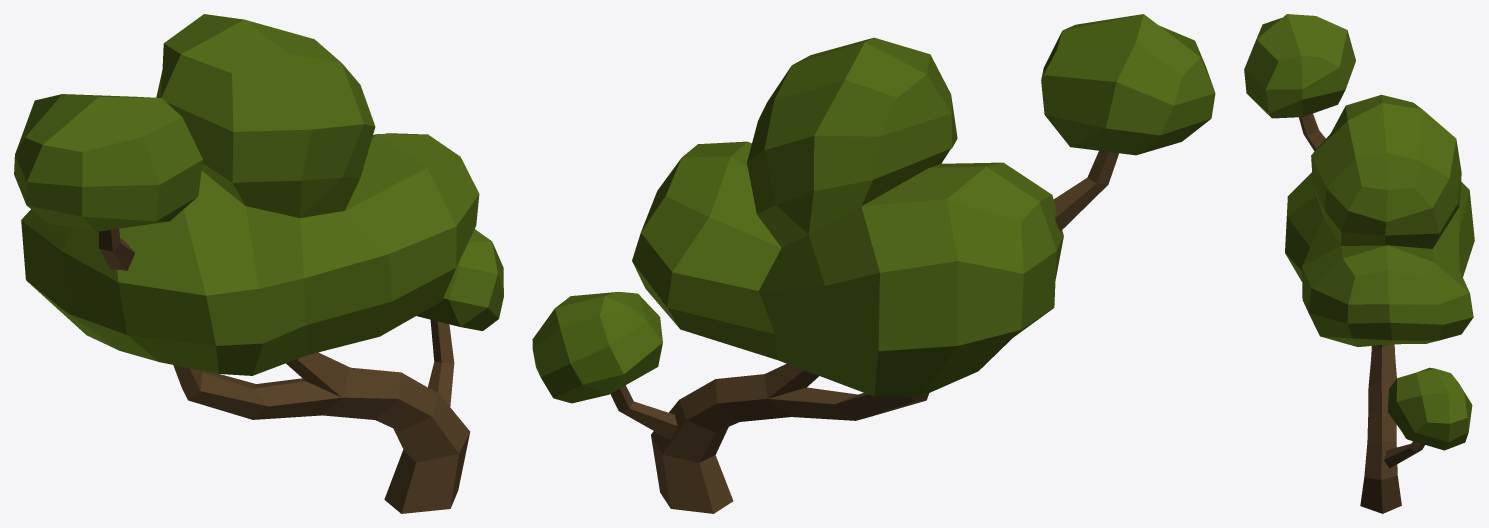
The model's file is TreesAndBushes_072.fbx.
3 renders of one model, left to right at view 1: azimuth 30°, elevation 25°; view 2: azimuth 150°, elevation 25°; view 3: azimuth 270°, elevation 25°, orthographic. The views are drawn at different scales.
Visible parts, largest first — view 1: TreesAndBushes_072; view 2: TreesAndBushes_072; view 3: TreesAndBushes_072.
Boxes of the visible parts, x1,y1,x2,y2 form: TreesAndBushes_072: (14, 14, 503, 513); TreesAndBushes_072: (532, 14, 1215, 513); TreesAndBushes_072: (1244, 14, 1474, 513).
Size of the model in its own units: 229 by 206 by 119.
